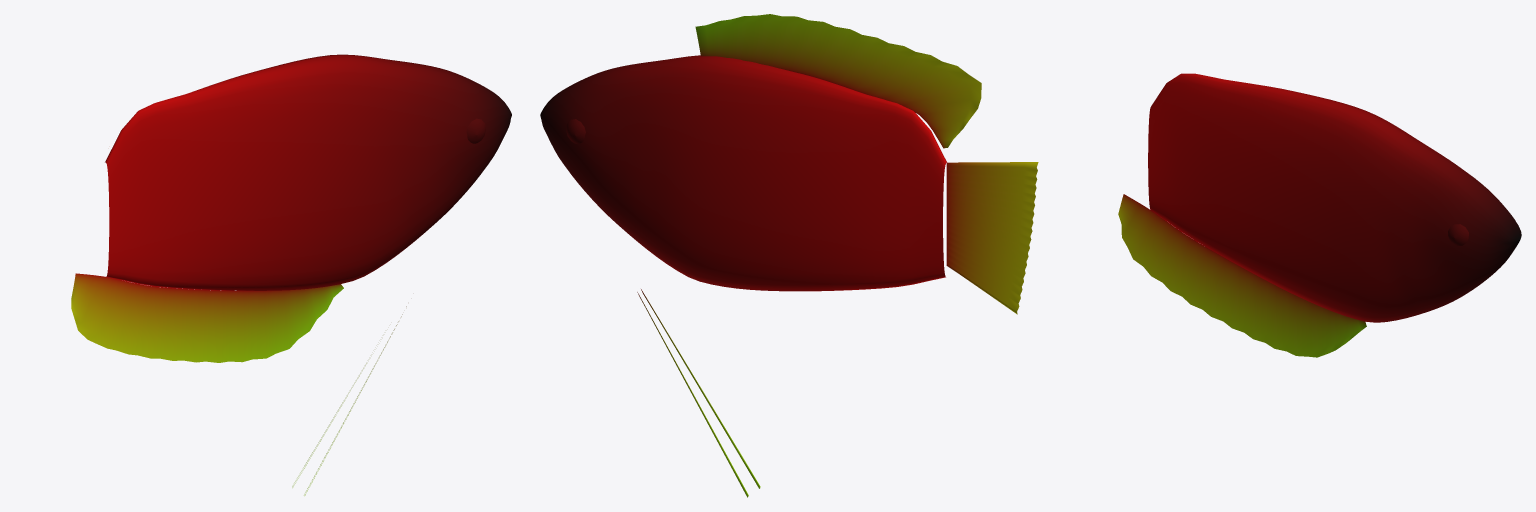
Rendered from dwarf_gourami.glb.
3 views of the same model, side by side, from view 1: azimuth 30°, elevation 25°; view 2: azimuth 150°, elevation 25°; view 3: azimuth 330°, elevation 25° (orthographic). The views are drawn at different scales.
Parts seen in each view (by area): view 1: body; view 2: body; view 3: body.
Part boxes in pixels (left/top/right/bottom): body: left=71, top=54, right=511, bottom=495; body: left=540, top=14, right=1038, bottom=497; body: left=1118, top=73, right=1521, bottom=357.
Size of the model in its own units: 0.1178 by 0.111 by 0.0159.
